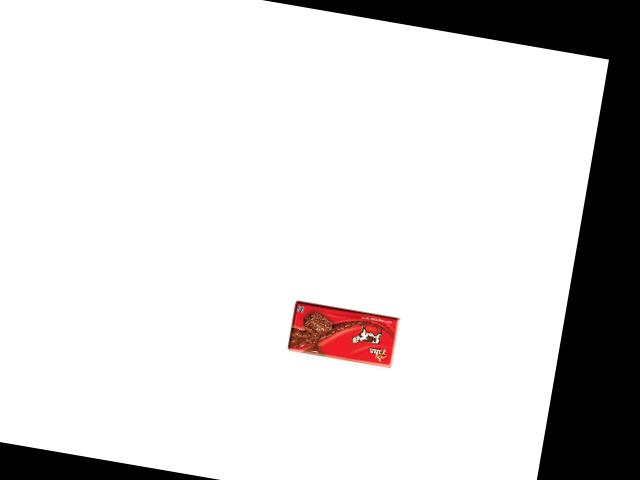chocolate: (282, 308, 388, 376)
